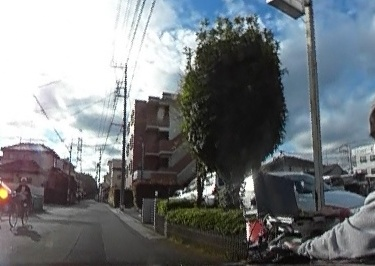person: (282, 86, 375, 266), (16, 173, 29, 207)
